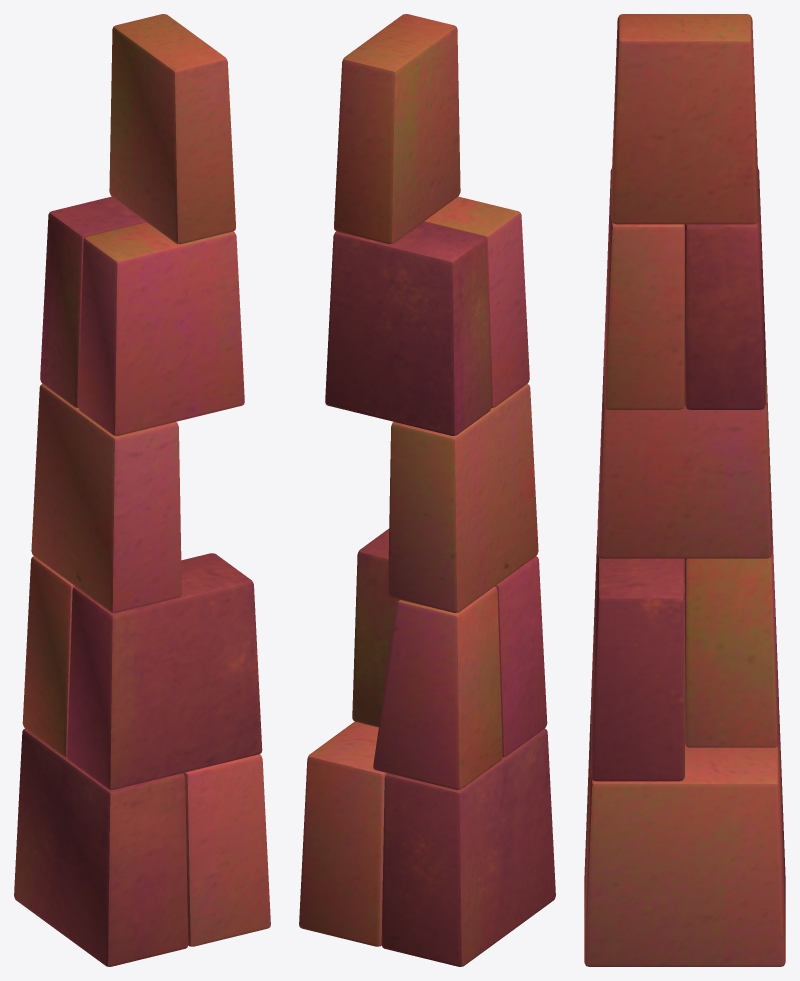
The model's file is TEMPLE_PILLAR_THIN_002.obj.
The picture shows the model from 3 angles, left to right: view 1: azimuth 30°, elevation 25°; view 2: azimuth 150°, elevation 25°; view 3: azimuth 270°, elevation 25°; orthographic projection. The views are drawn at different scales.
Parts seen in each view (by area): view 1: TEMPLE_PILLAR_THIN_002; view 2: TEMPLE_PILLAR_THIN_002; view 3: TEMPLE_PILLAR_THIN_002.
Part boxes in pixels (box(x1,y1,x2,y2)): TEMPLE_PILLAR_THIN_002: box(14, 14, 270, 966); TEMPLE_PILLAR_THIN_002: box(299, 14, 555, 966); TEMPLE_PILLAR_THIN_002: box(584, 14, 785, 966).
Bounding box in the file's own units: 0.599 × 3 × 0.599.
